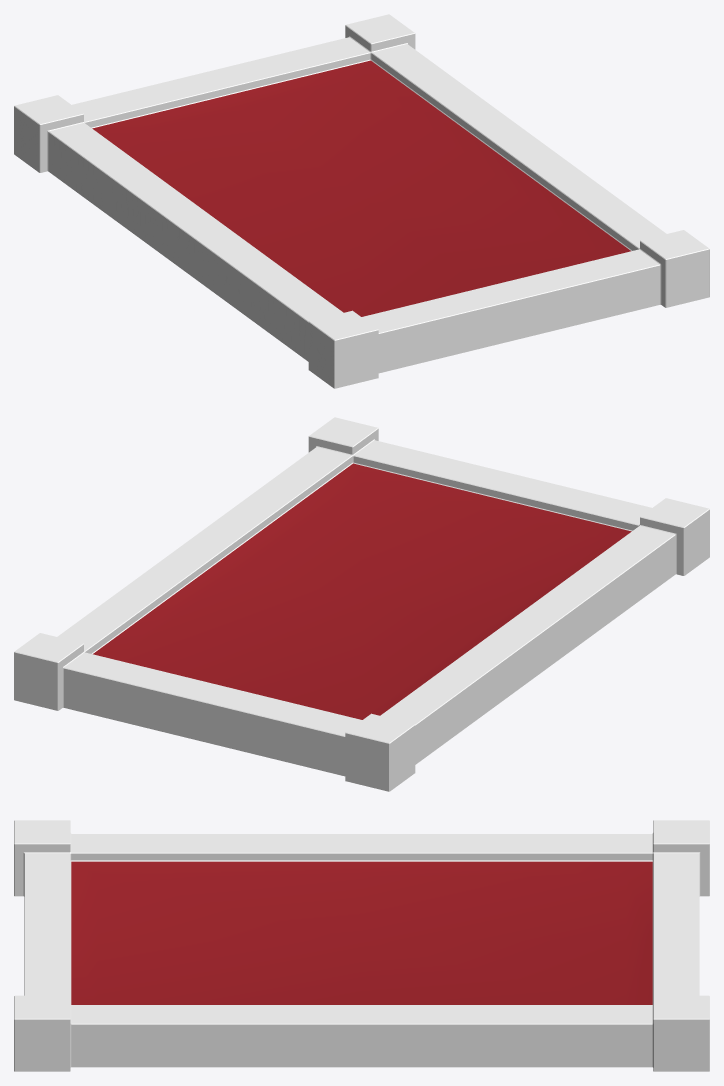
The model's file is Tableaux.fbx.
3 views of the same model, one above another, from view 1: azimuth 30°, elevation 25°; view 2: azimuth 150°, elevation 25°; view 3: azimuth 270°, elevation 25° (orthographic). The views are drawn at different scales.
Visible parts, largest first — view 1: Plane001; view 2: Plane001; view 3: Plane001.
Boxes of the visible parts, box(x1,y1,x2,y2) form: Plane001: box(14, 14, 709, 388); Plane001: box(14, 417, 709, 791); Plane001: box(14, 820, 709, 1071).
Bounding box in the file's own units: 105 × 12.91 × 155.
1 material, 1 textured.
